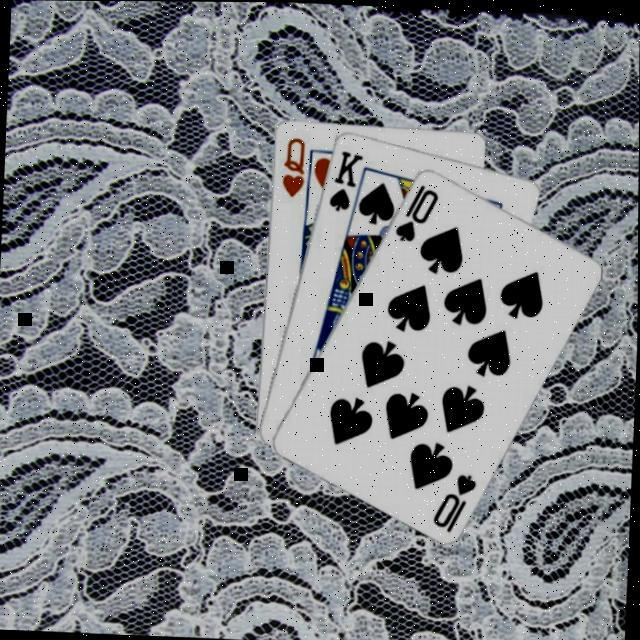10S: (428, 469, 478, 536), (391, 179, 441, 245)
KS: (324, 146, 364, 214)
QH: (277, 133, 307, 200)
